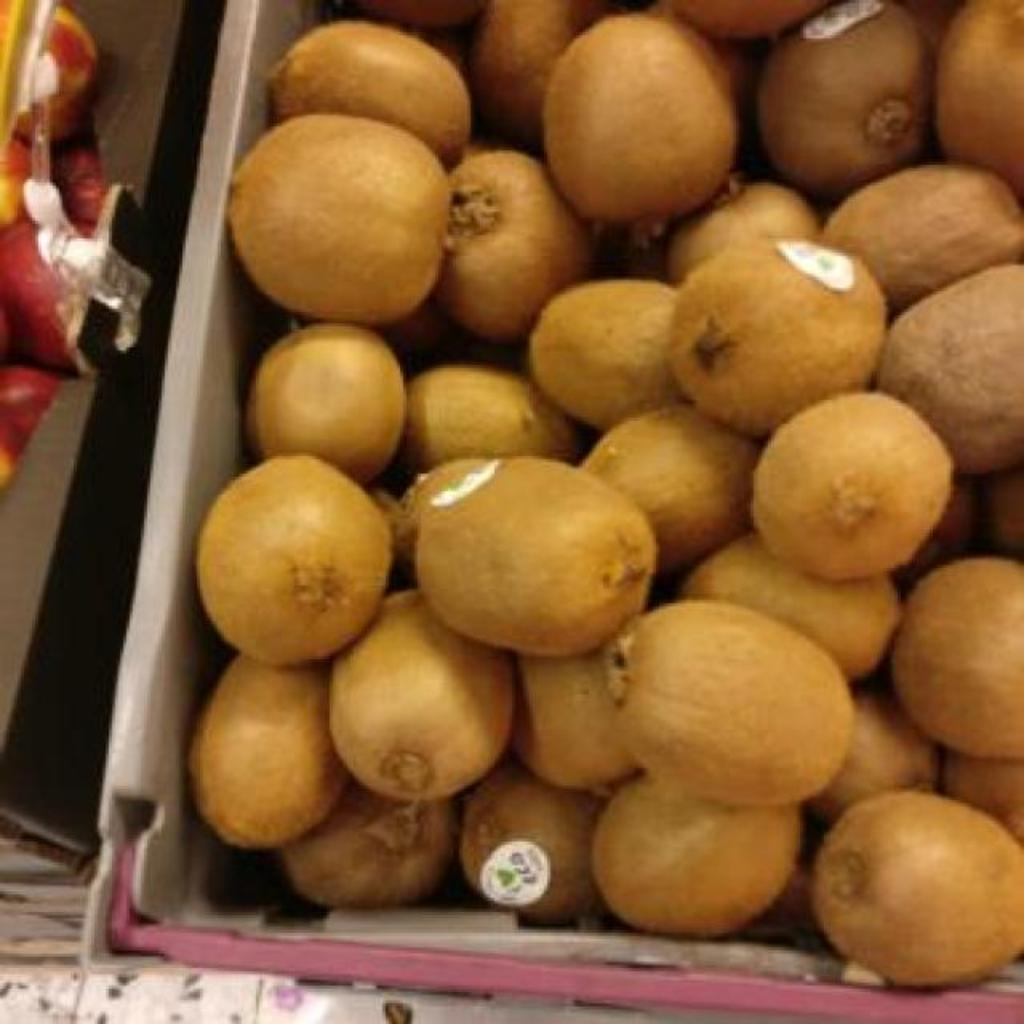kiwi: (406, 458, 658, 655), (618, 600, 854, 803), (228, 118, 446, 323), (196, 454, 392, 663), (674, 242, 886, 435), (542, 14, 738, 221), (816, 792, 1024, 985), (330, 590, 514, 799), (752, 392, 954, 579), (592, 776, 800, 935), (758, 4, 924, 195), (685, 534, 900, 679), (878, 264, 1024, 471), (194, 656, 348, 847), (436, 150, 590, 339), (822, 164, 1022, 307), (582, 406, 756, 569), (270, 22, 470, 161), (892, 564, 1024, 757), (248, 326, 402, 483), (462, 762, 600, 922), (530, 284, 682, 429), (284, 786, 454, 907), (470, 0, 606, 143), (404, 368, 574, 471), (520, 653, 636, 789), (810, 697, 936, 821), (666, 184, 820, 281)
